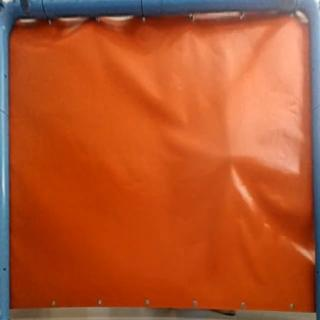Hit-hRxx: (220, 150, 236, 162)
